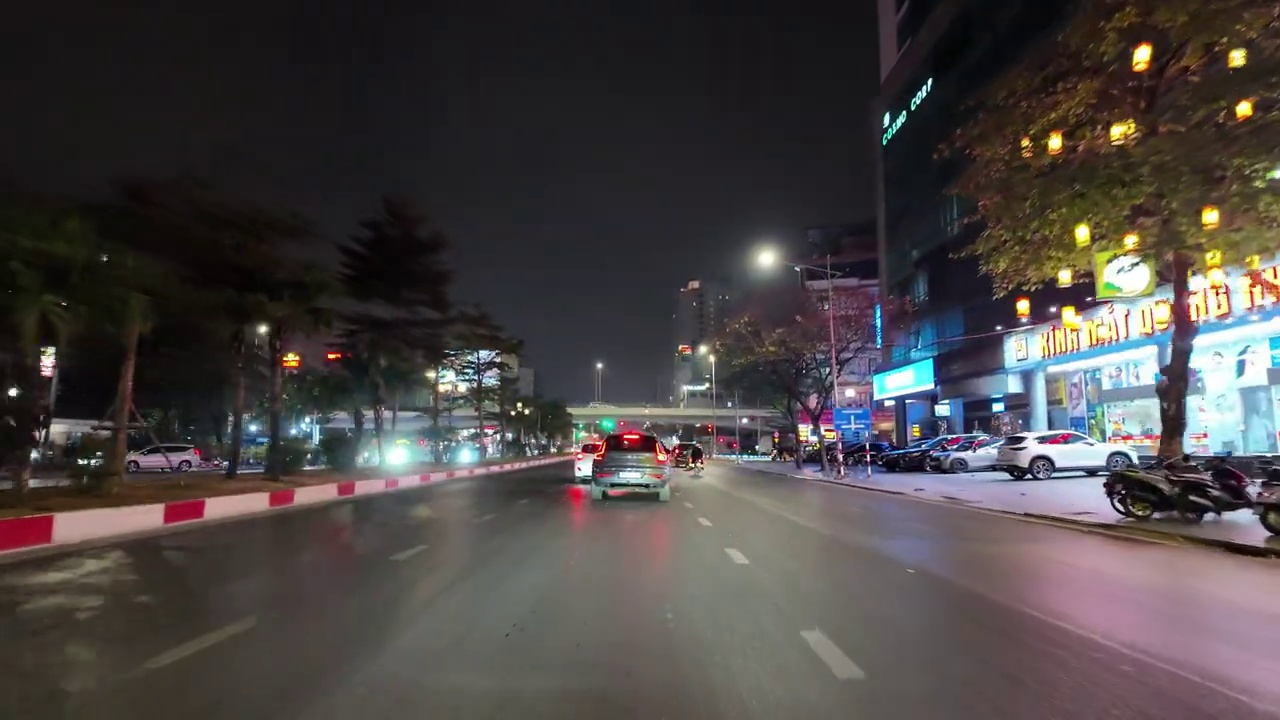acesa: (750, 242, 784, 274)
